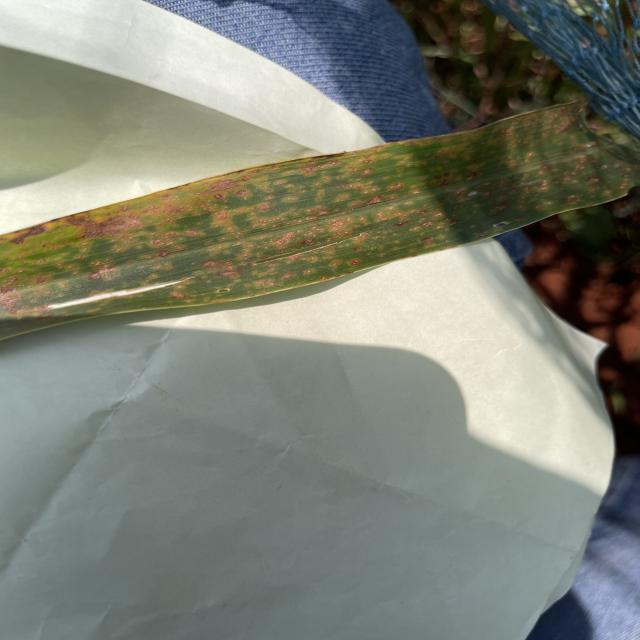millet_rust: (2, 97, 640, 341)
